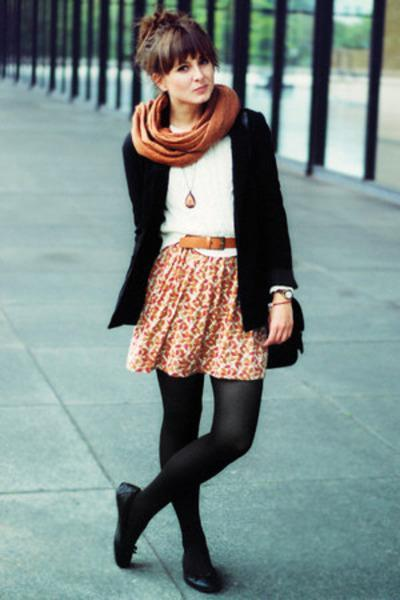bag: (255, 286, 292, 347)
jacket: (108, 108, 297, 328)
shirt: (162, 138, 233, 275)
shoe: (114, 540, 227, 593)
skirt: (126, 252, 269, 381)
